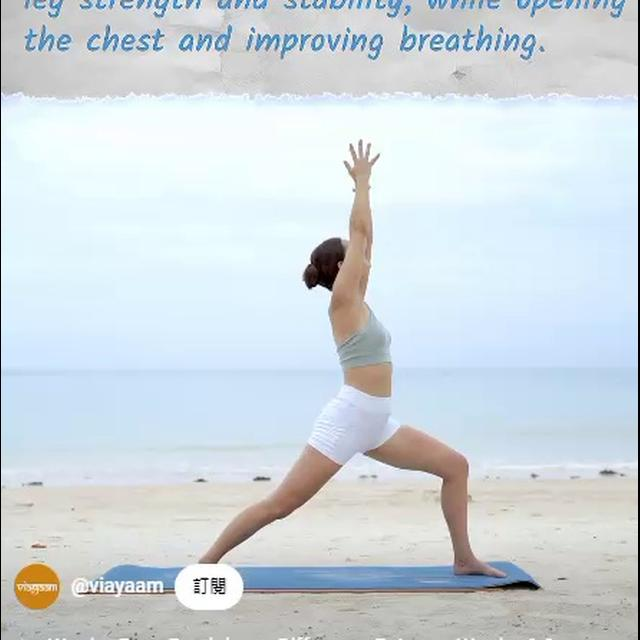Warrior_I: (161, 132, 510, 584)
